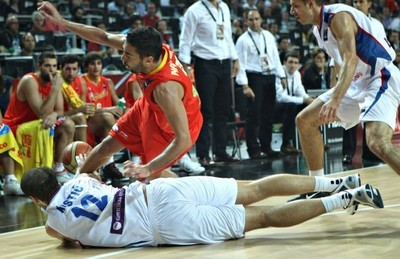10+: (1, 1, 400, 247)
down: (20, 154, 385, 246), (39, 5, 203, 174)
